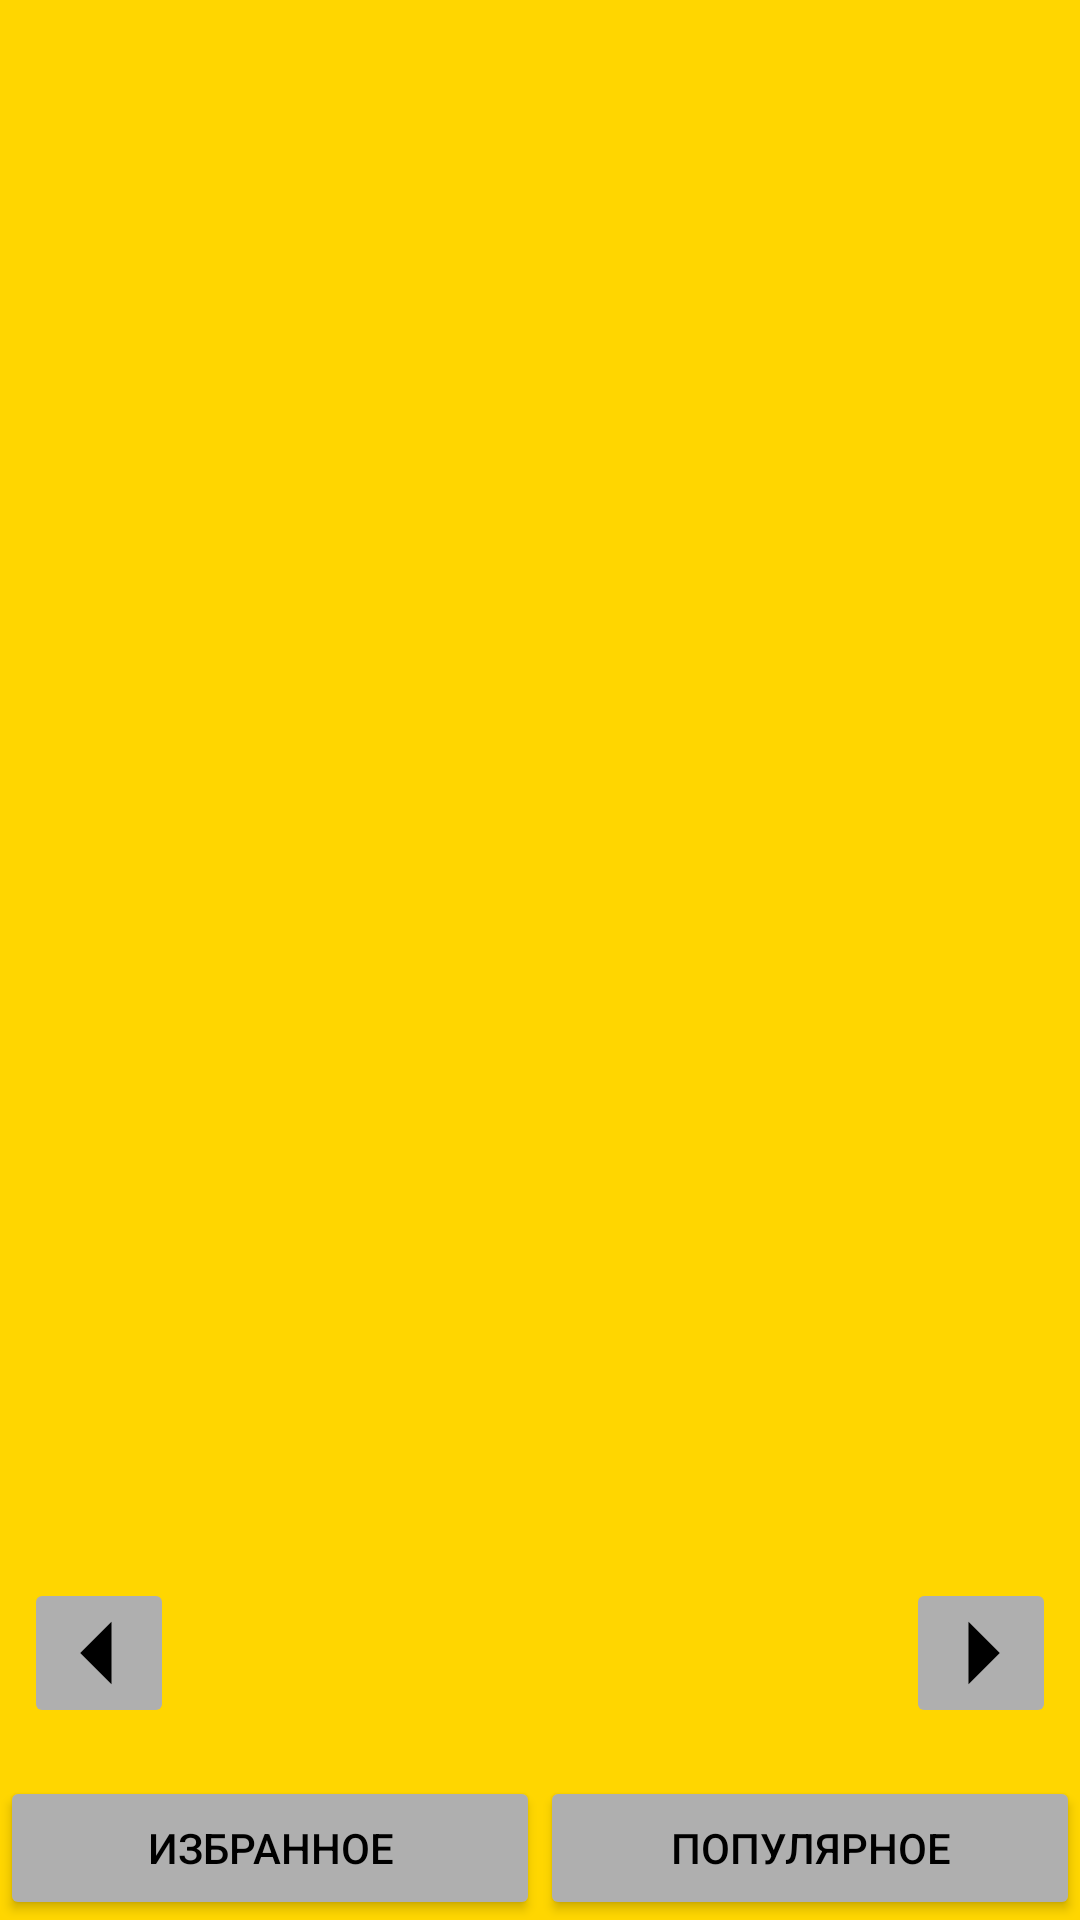

Icons on this 1080×1920 Android screen, each with the point to tap as point (x, y):
arrow left: point (99, 1653)
arrow right: point (981, 1653)
